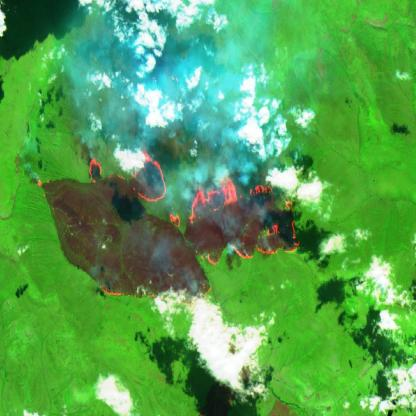fire: (34, 147, 303, 312)
